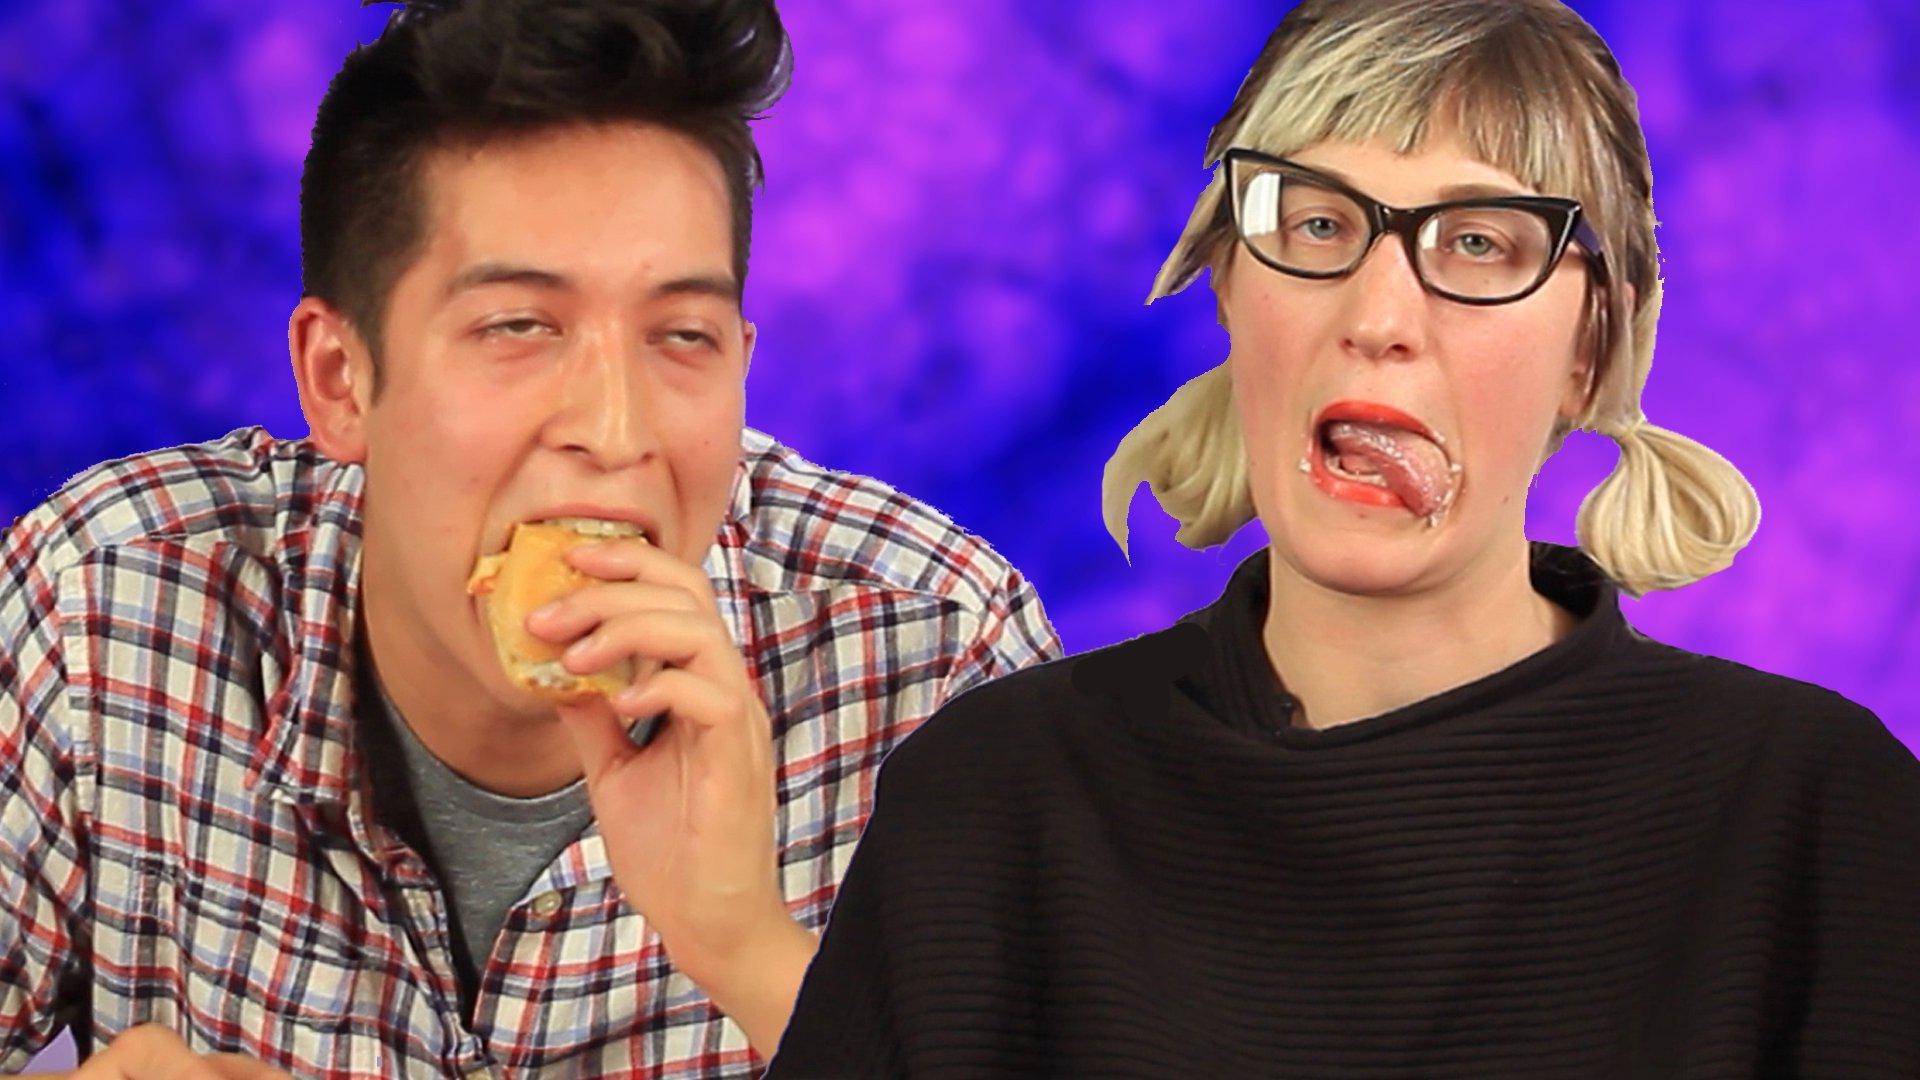Drunk: (436, 158, 719, 684), (1246, 146, 1547, 589)
